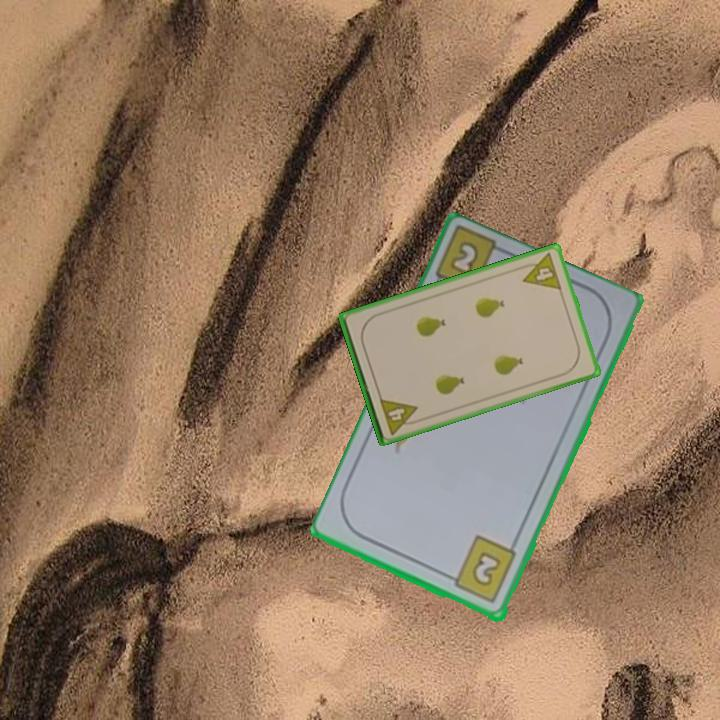2b: (443, 533, 520, 607), (449, 241, 479, 275)
4p: (515, 250, 564, 293), (376, 394, 423, 438)
